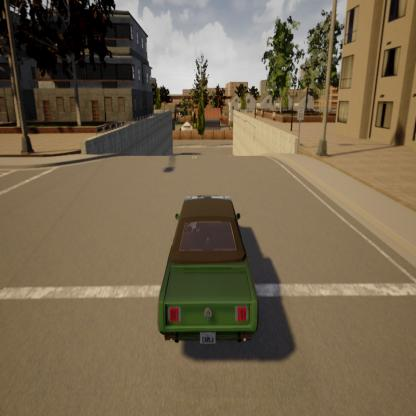Cars: (156, 137, 263, 389)
